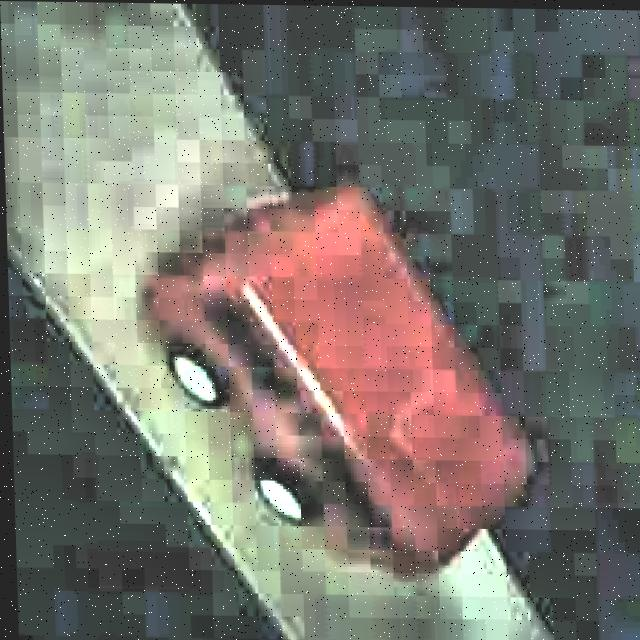bus: (132, 183, 538, 582)
